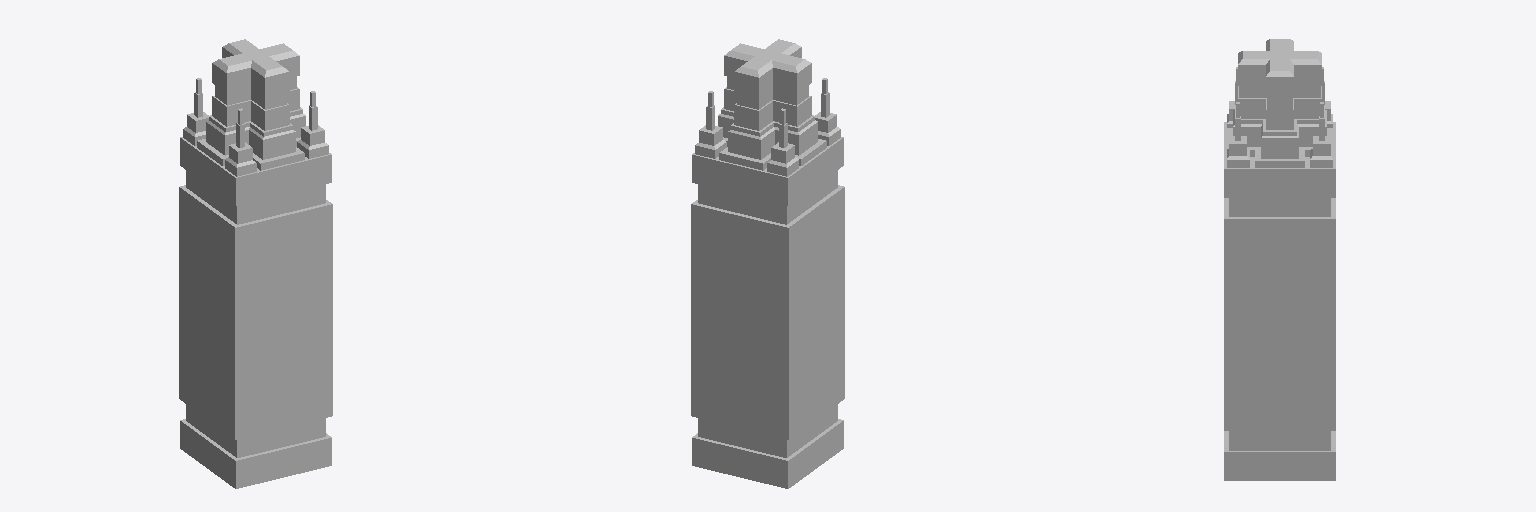
The model's file is building2.obj.
3 renders of one model, left to right at view 1: azimuth 30°, elevation 25°; view 2: azimuth 150°, elevation 25°; view 3: azimuth 270°, elevation 25°, orthographic.
Visible parts, largest first — view 1: polySurface1 group2; view 2: polySurface1 group2; view 3: polySurface1 group2.
Boxes of the visible parts, <box> form: polySurface1 group2: <box>179,39,332,488</box>; polySurface1 group2: <box>691,39,844,488</box>; polySurface1 group2: <box>1224,39,1335,480</box>.
Size of the model in its own units: 29.12 by 115 by 29.17.